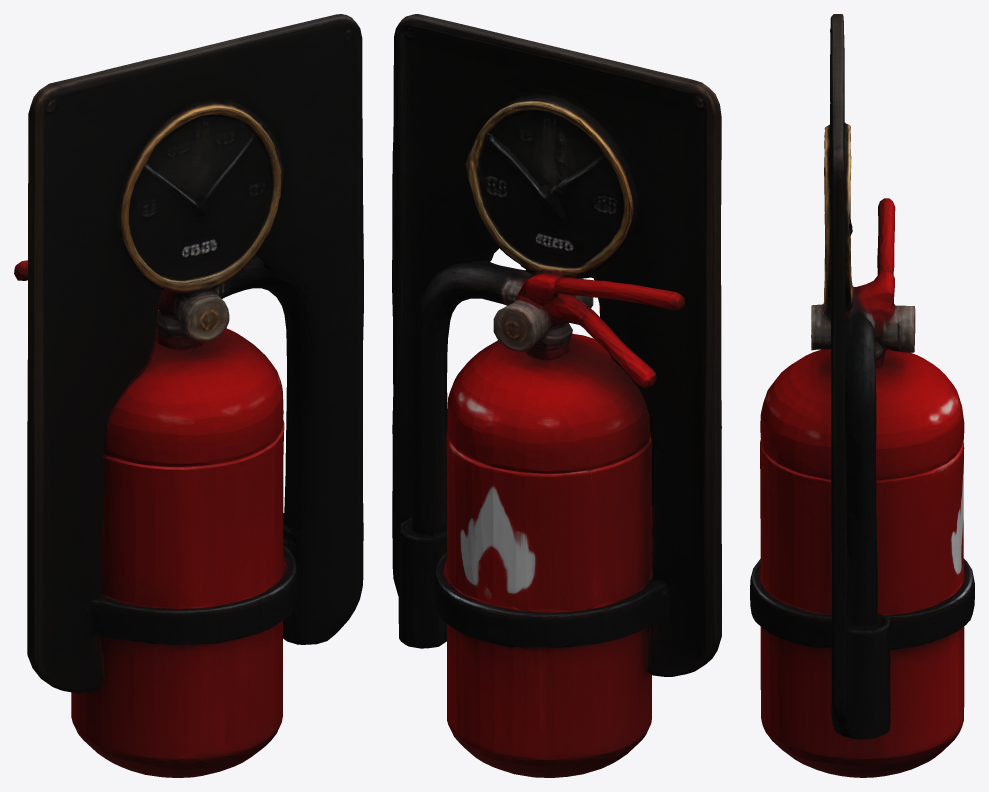
File: boat_extinguisher.glb
3 renders of one model, left to right at view 1: azimuth 30°, elevation 25°; view 2: azimuth 150°, elevation 25°; view 3: azimuth 270°, elevation 25°, orthographic. The views are drawn at different scales.
Visible parts, largest first — view 1: world; view 2: world; view 3: world.
Boxes of the visible parts, left/top/right/bottom form: world: left=14, top=14, right=363, bottom=777; world: left=392, top=14, right=721, bottom=777; world: left=750, top=14, right=974, bottom=777.
Size of the model in its own units: 0.4824 by 0.9996 by 0.2981.
Materials: 1 (1 with a texture image).
